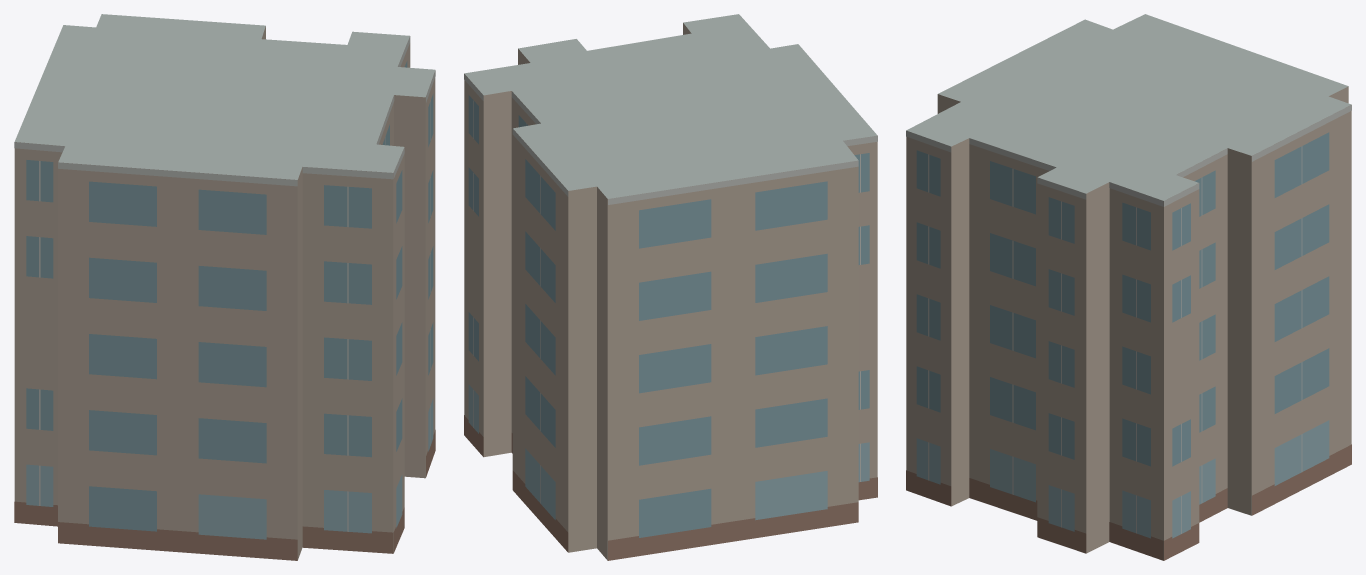
File: survey-upis-32998810.glb
The picture shows the model from 3 angles, left to right: view 1: azimuth 30°, elevation 25°; view 2: azimuth 150°, elevation 25°; view 3: azimuth 270°, elevation 25°; orthographic projection. The views are drawn at different scales.
Visible parts, largest first — view 1: survey-upis-32998810.tmp; view 2: survey-upis-32998810.tmp; view 3: survey-upis-32998810.tmp.
Boxes of the visible parts, box(x1,y1,x2,y2) form: survey-upis-32998810.tmp: box(14, 14, 435, 560); survey-upis-32998810.tmp: box(464, 14, 877, 560); survey-upis-32998810.tmp: box(906, 14, 1351, 560).
Size of the model in its own units: 16.16 by 14.5 by 16.28.
